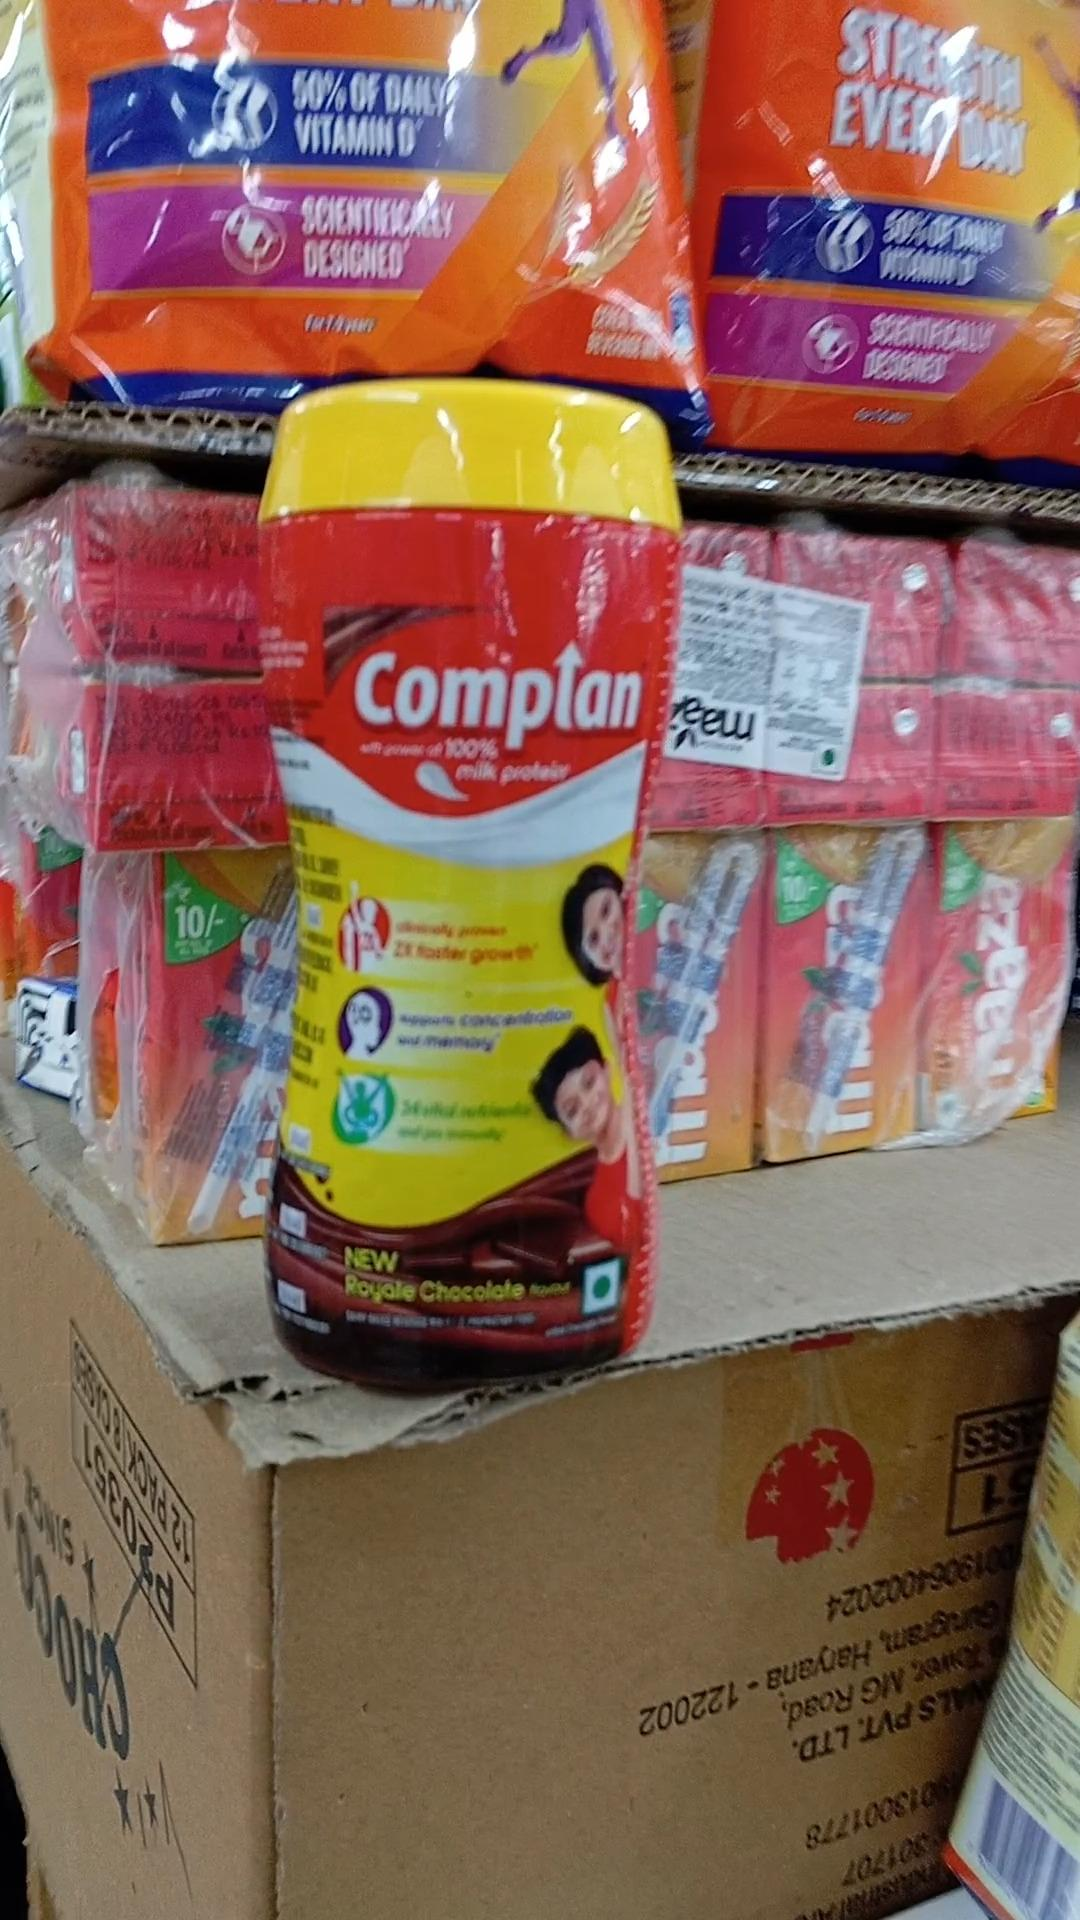COMPLAN_CHOCOLATE_200_GMS_JAR: (255, 396, 645, 1385)
